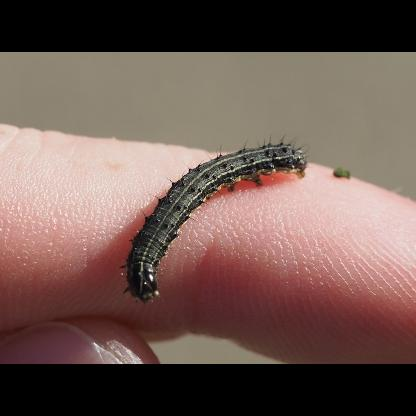Fall Armyworm Larvae: (116, 132, 314, 310)
